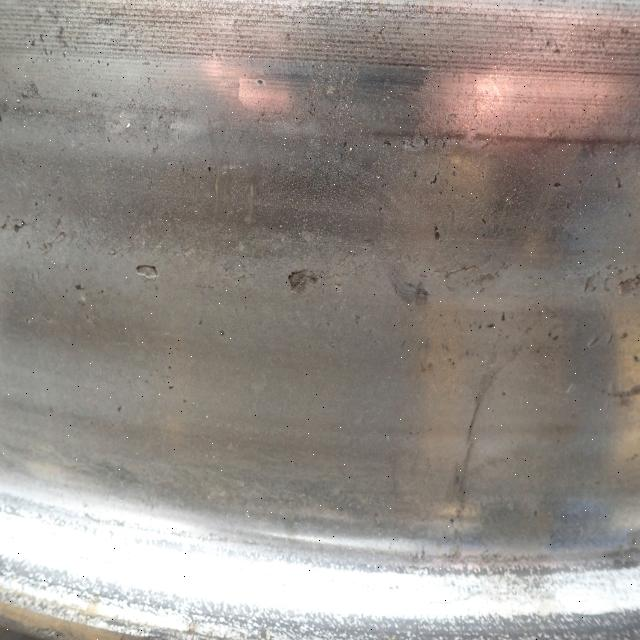boli: (274, 254, 331, 300), (134, 240, 156, 290)
